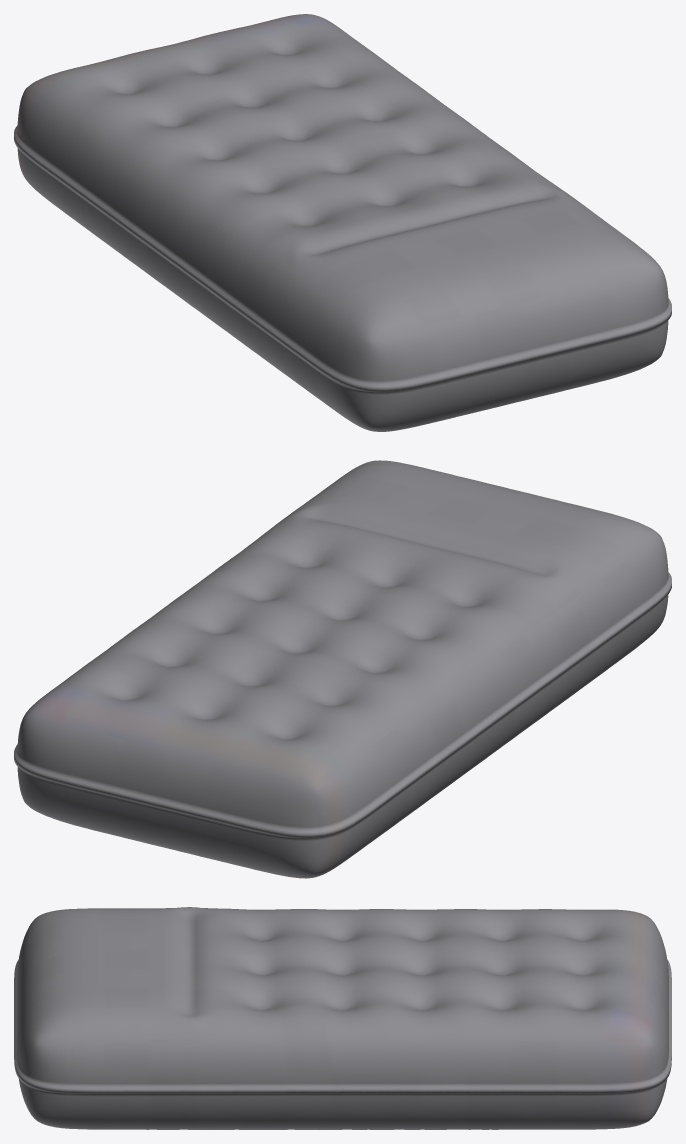
Rendered from Bed47.glb.
The picture shows the model from 3 angles, top to bottom: view 1: azimuth 30°, elevation 25°; view 2: azimuth 150°, elevation 25°; view 3: azimuth 270°, elevation 25°; orthographic projection. The views are drawn at different scales.
Visible parts, largest first — view 1: Mattress47; view 2: Mattress47; view 3: Mattress47.
Part boxes in pixels (x1,y1,x2,y2): Mattress47: [14, 14, 671, 431]; Mattress47: [14, 460, 671, 878]; Mattress47: [14, 907, 671, 1129].
Bounding box in the file's own units: 2.59 × 1.01 × 4.96.
Materials: 1 (1 with a texture image).
